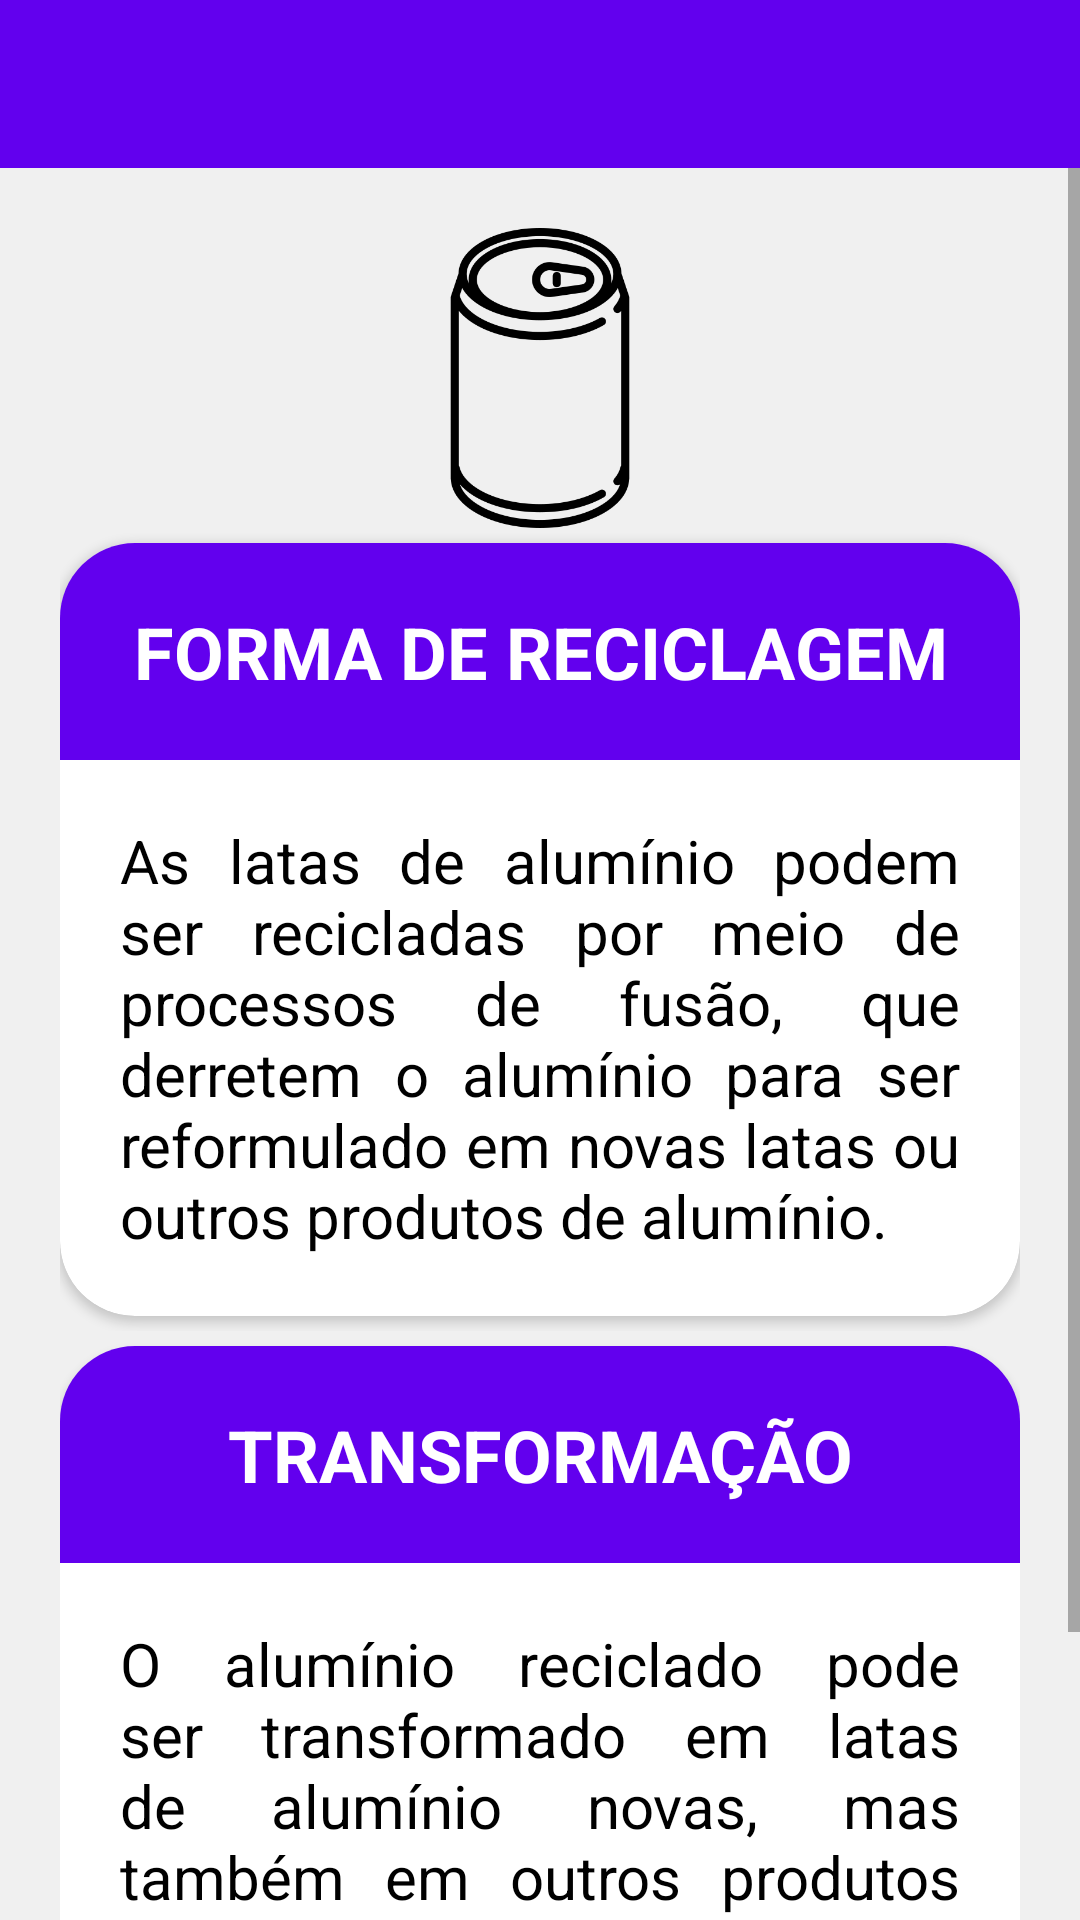

Named icons in this screenshot (1080w x 1920h) and their centers, point (x, y):
lata: point (540, 378)
